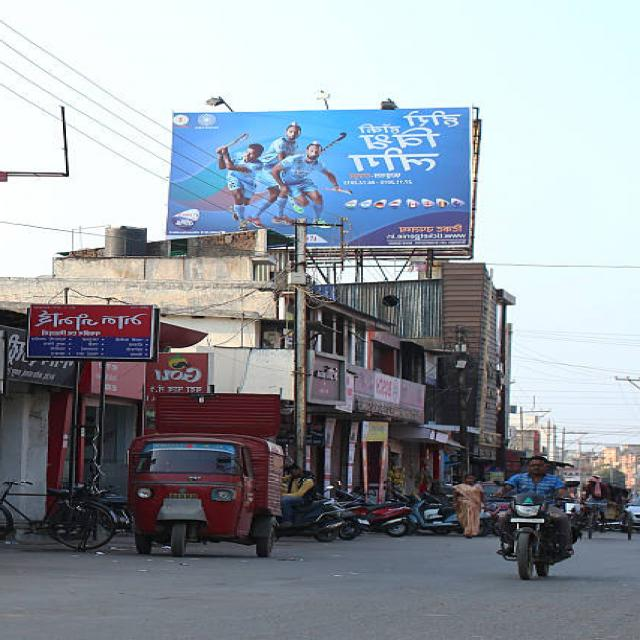Werbetafel frei: (166, 111, 482, 252)
